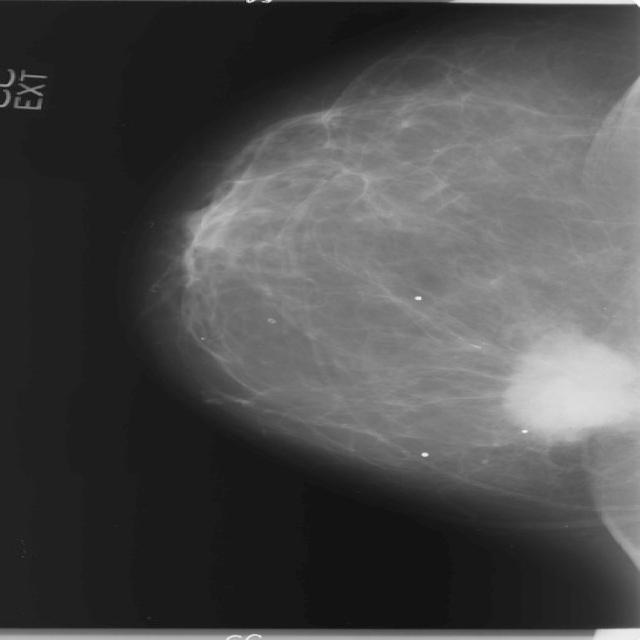tumour: (508, 332, 638, 437)
